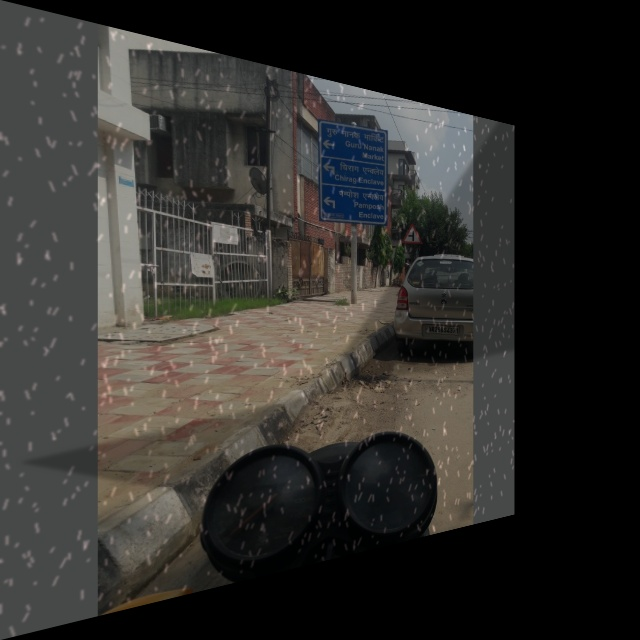Side_Road_Left: (399, 217, 424, 247)
